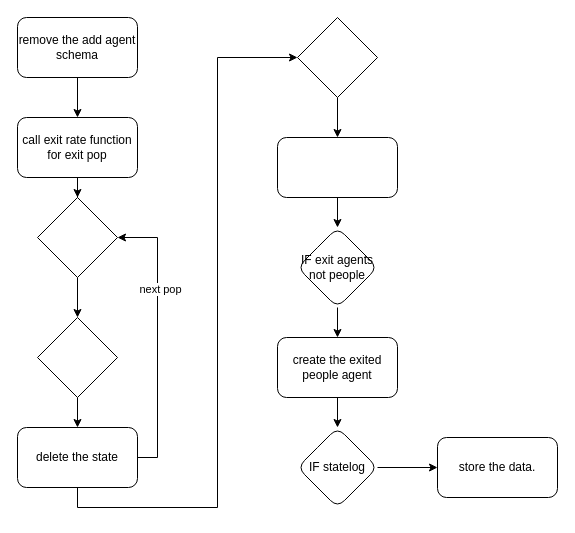
The diagram is 575 pixels wide and 533 high, and some of its shapes have lost their labels. Here are the shapes that lost their labels. From the top down, the box of each, then its label:
(296, 16, 378, 98): exited agents
(276, 136, 398, 198): created the exit object
(36, 196, 118, 278): FOR all removed agents
(36, 316, 118, 398): IF agent state schema
